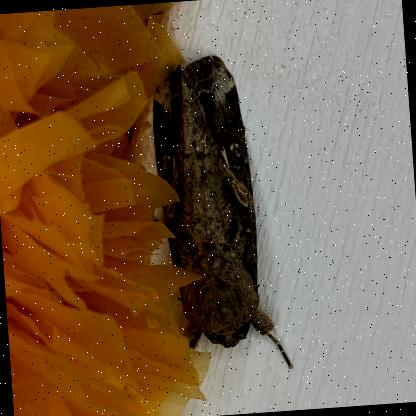Fall Armyworm Moth: (144, 48, 297, 382)
